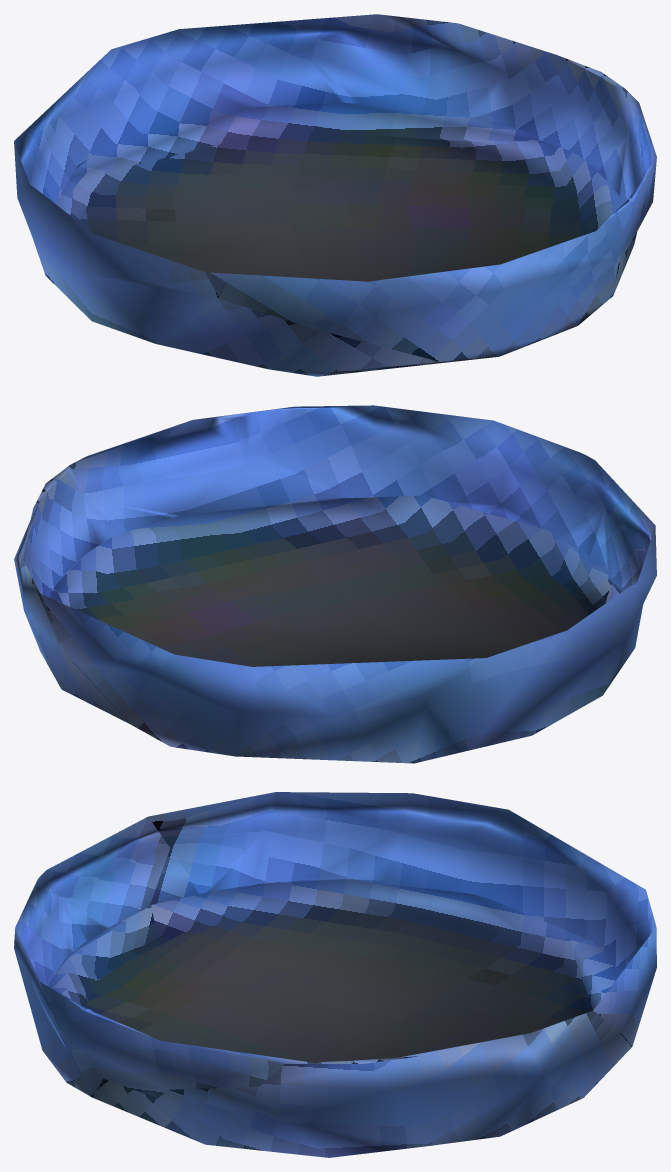
Rendered from Sea_to_Summit_Xl_Bowl-low.glb.
3 views of the same model, one above another, from view 1: azimuth 30°, elevation 25°; view 2: azimuth 150°, elevation 25°; view 3: azimuth 270°, elevation 25° (orthographic).
Visible parts, largest first — view 1: Sea_to_Summit_Xl_Bowl; view 2: Sea_to_Summit_Xl_Bowl; view 3: Sea_to_Summit_Xl_Bowl.
Part boxes in pixels (box(x1,y1,x2,y2)): Sea_to_Summit_Xl_Bowl: box(14, 14, 656, 376); Sea_to_Summit_Xl_Bowl: box(14, 405, 656, 763); Sea_to_Summit_Xl_Bowl: box(14, 792, 656, 1157).
Size of the model in its own units: 0.1771 by 0.0335 by 0.1795.
Materials: 1 (1 with a texture image).
